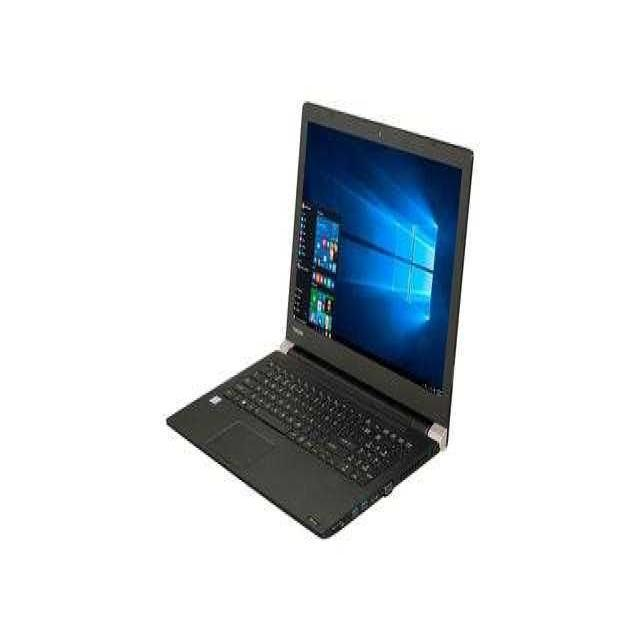laptop: (200, 102, 488, 536)
